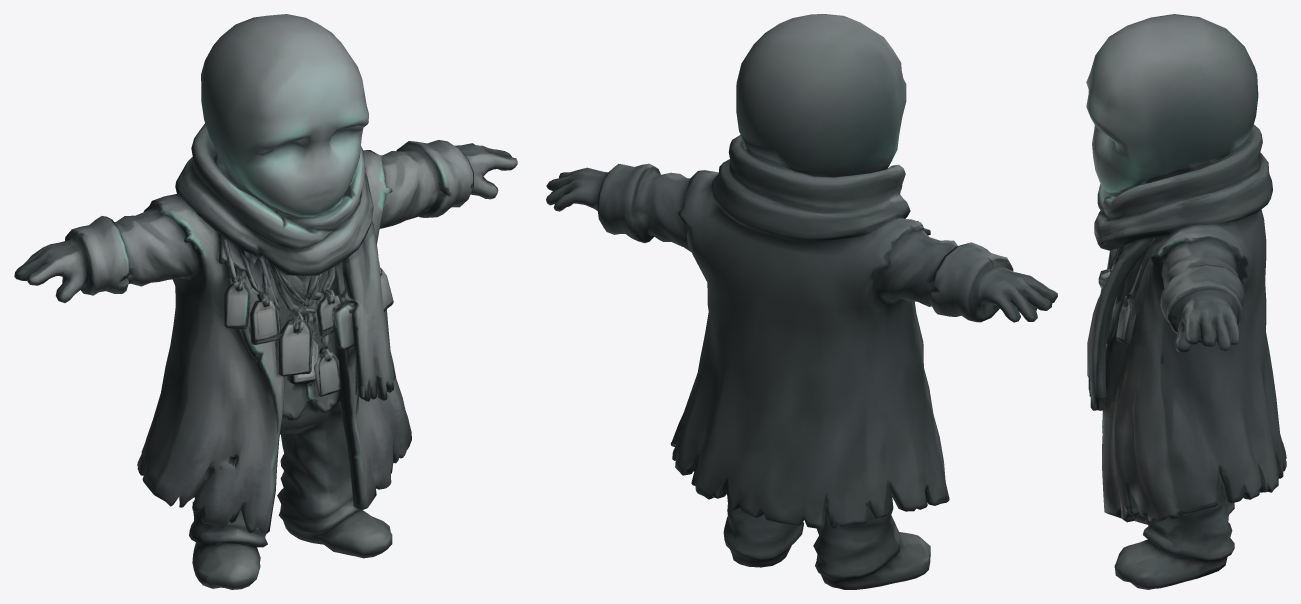
The model's file is retopo.glb.
The picture shows the model from 3 angles, left to right: view 1: azimuth 30°, elevation 25°; view 2: azimuth 150°, elevation 25°; view 3: azimuth 270°, elevation 25°; orthographic projection. The views are drawn at different scales.
Parts seen in each view (by area): view 1: tripo_node_88b6acfa-8885-4bc0-95aa-4a33f5318e20; view 2: tripo_node_88b6acfa-8885-4bc0-95aa-4a33f5318e20; view 3: tripo_node_88b6acfa-8885-4bc0-95aa-4a33f5318e20.
Part boxes in pixels (x1=…): tripo_node_88b6acfa-8885-4bc0-95aa-4a33f5318e20: x1=14, y1=14, x2=517, y2=589; tripo_node_88b6acfa-8885-4bc0-95aa-4a33f5318e20: x1=546, y1=14, x2=1057, y2=589; tripo_node_88b6acfa-8885-4bc0-95aa-4a33f5318e20: x1=1086, y1=14, x2=1286, y2=589.
Size of the model in its own units: 0.9502 by 0.977 by 0.3384.
Materials: 1 (1 with a texture image).
